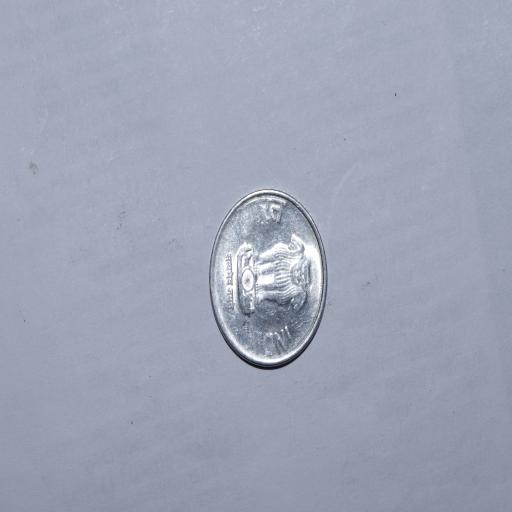rupee2: (205, 186, 329, 369)
